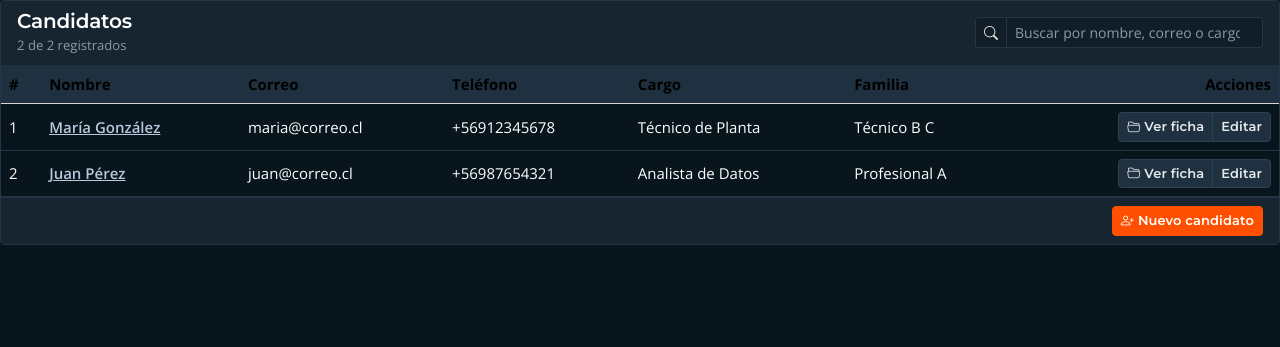
Test: ListaCandidatos › muestra el estado vacío cuando la búsqueda no tiene coincidencias
In the search field named "buscar candidato": (1134, 32) [1006, 17, 1263, 48], type "zzzz"
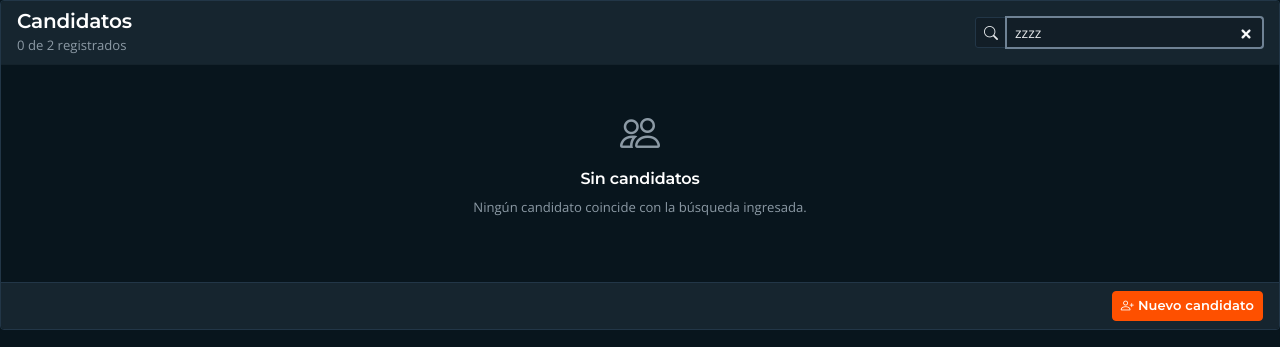
Expected: the heading "Sin candidatos" is shown, [580, 169, 700, 188]
Expected: the text "Ningún candidato coincide con la búsqueda ingresada." is shown, [473, 198, 807, 216]
